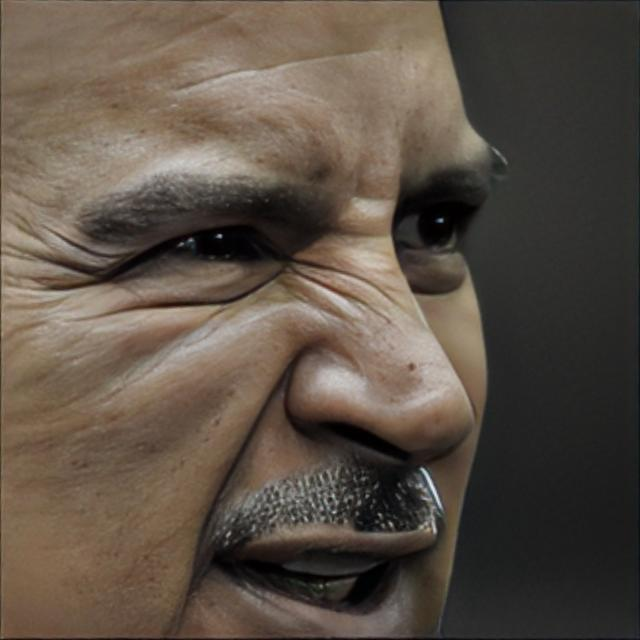anger: (0, 3, 509, 640)
